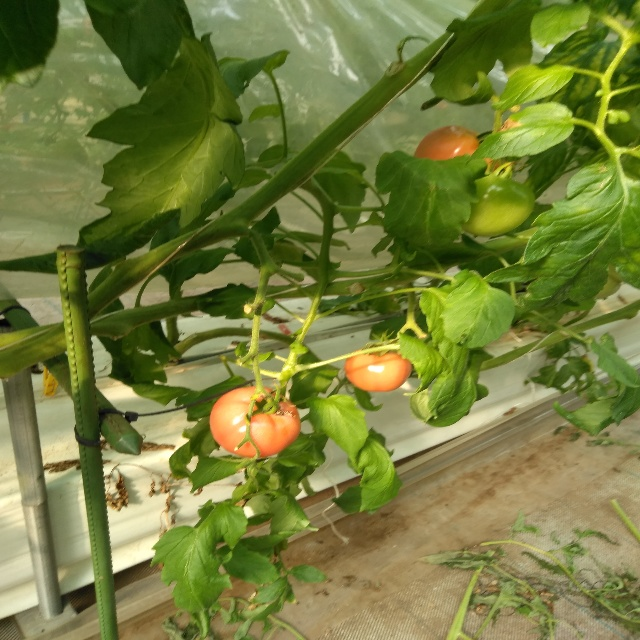b_green: (462, 172, 534, 237)
b_half_ripened: (210, 386, 302, 458), (414, 124, 505, 174), (344, 346, 413, 392)
